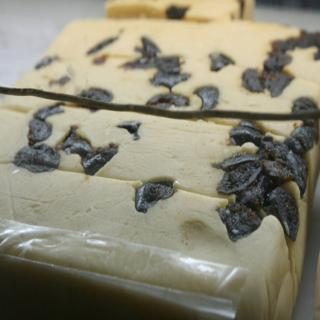Cake: (0, 15, 319, 319), (102, 0, 259, 22)
